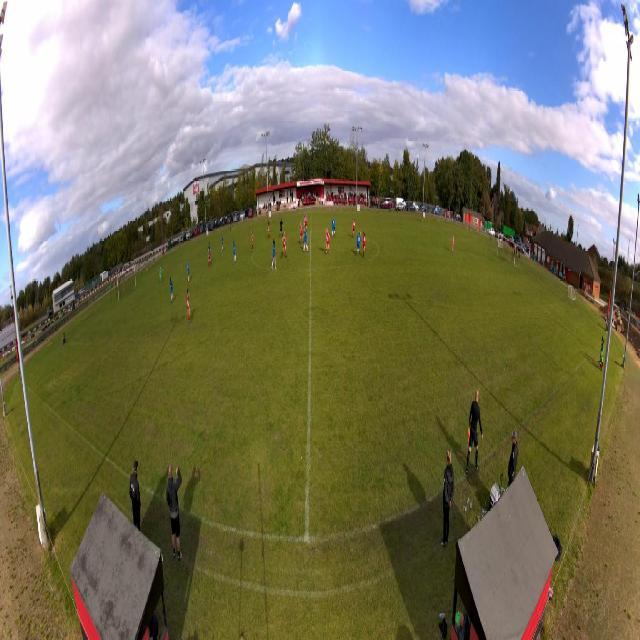ball: (159, 269, 161, 273)
player: (271, 237, 277, 271), (302, 226, 309, 254), (324, 227, 331, 255), (186, 287, 191, 325), (281, 230, 287, 259), (356, 230, 362, 257), (299, 221, 304, 245), (331, 215, 336, 239), (362, 231, 366, 259), (169, 277, 173, 304), (351, 218, 356, 239), (233, 239, 237, 265), (186, 258, 190, 284), (158, 265, 163, 284), (279, 217, 283, 239), (251, 229, 255, 251), (451, 233, 455, 254), (304, 213, 308, 232), (303, 211, 307, 227), (208, 248, 211, 269), (208, 241, 211, 261), (267, 220, 270, 239), (221, 234, 224, 253)
